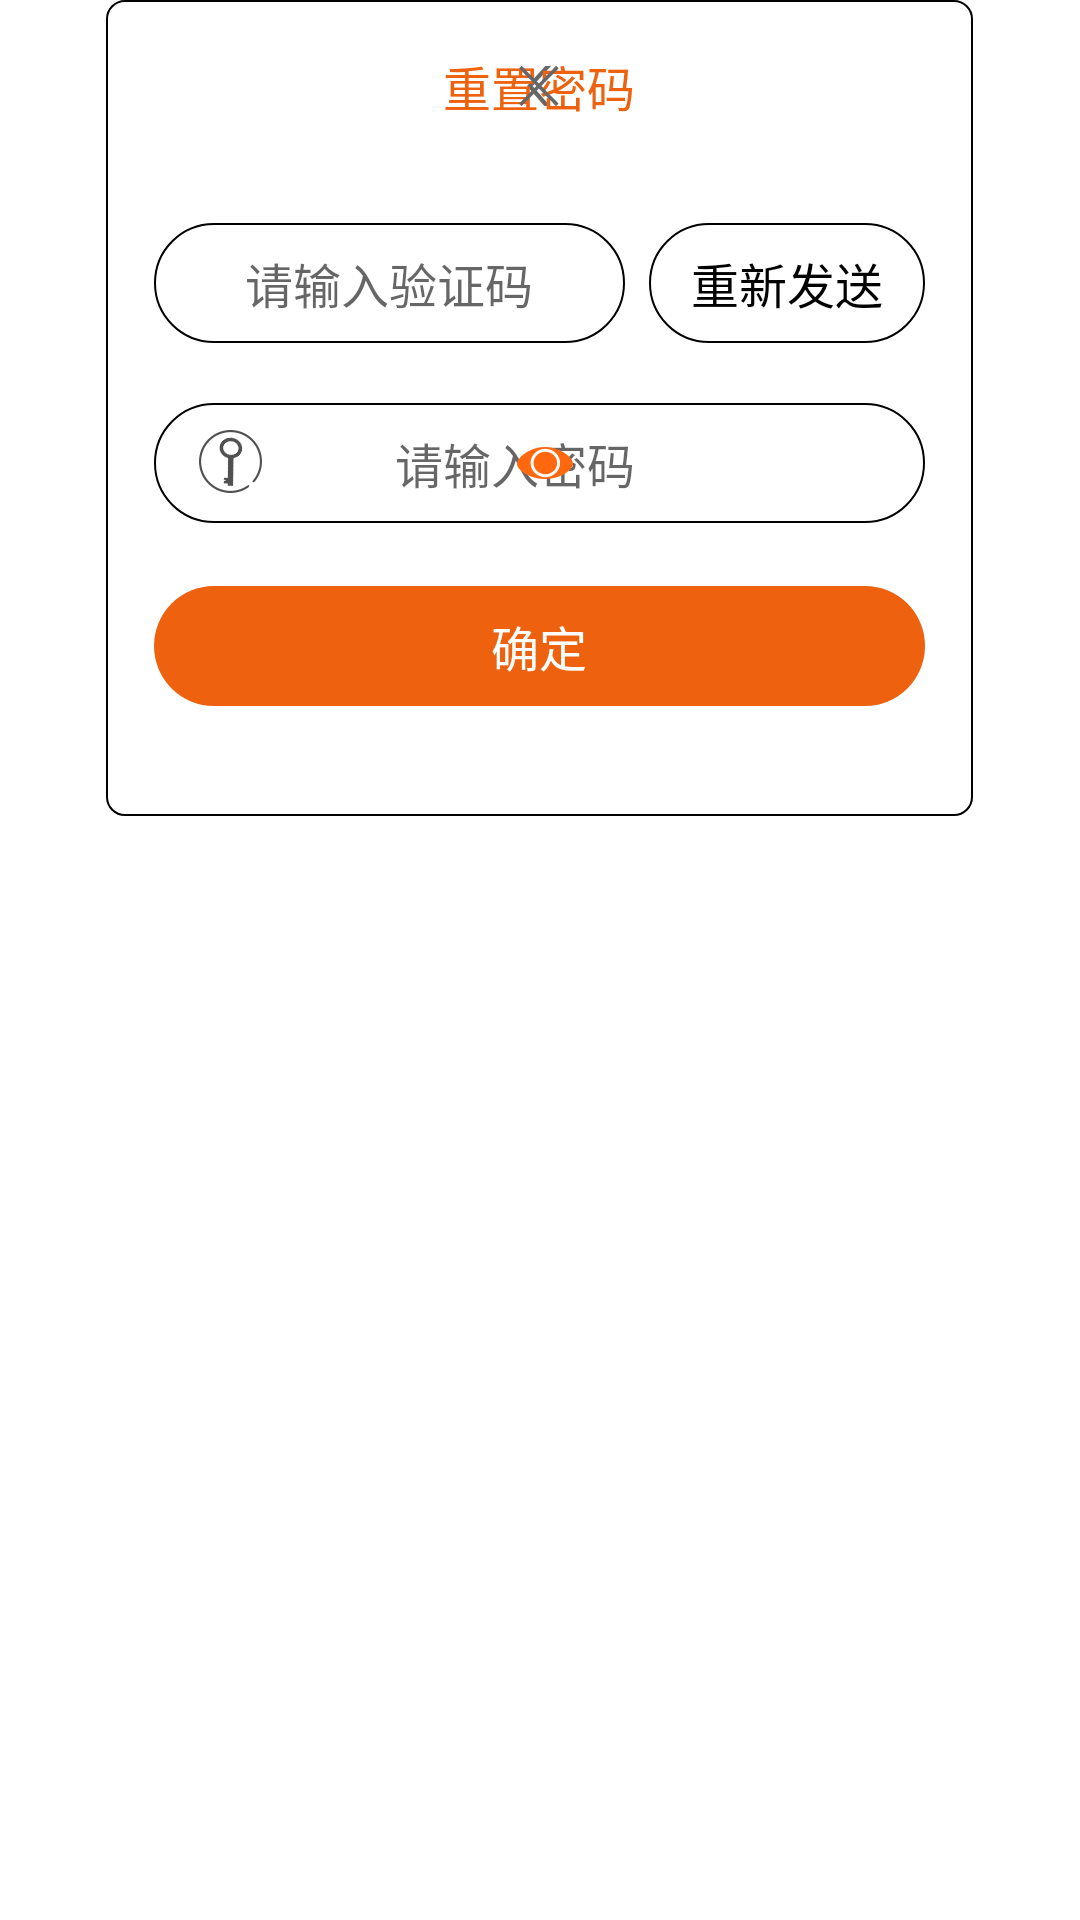

Icon click points for this 1080px x 1920px phone screenshot, format point (x, y):
ui eye: point (545, 463)
ui login password: point (230, 461)
